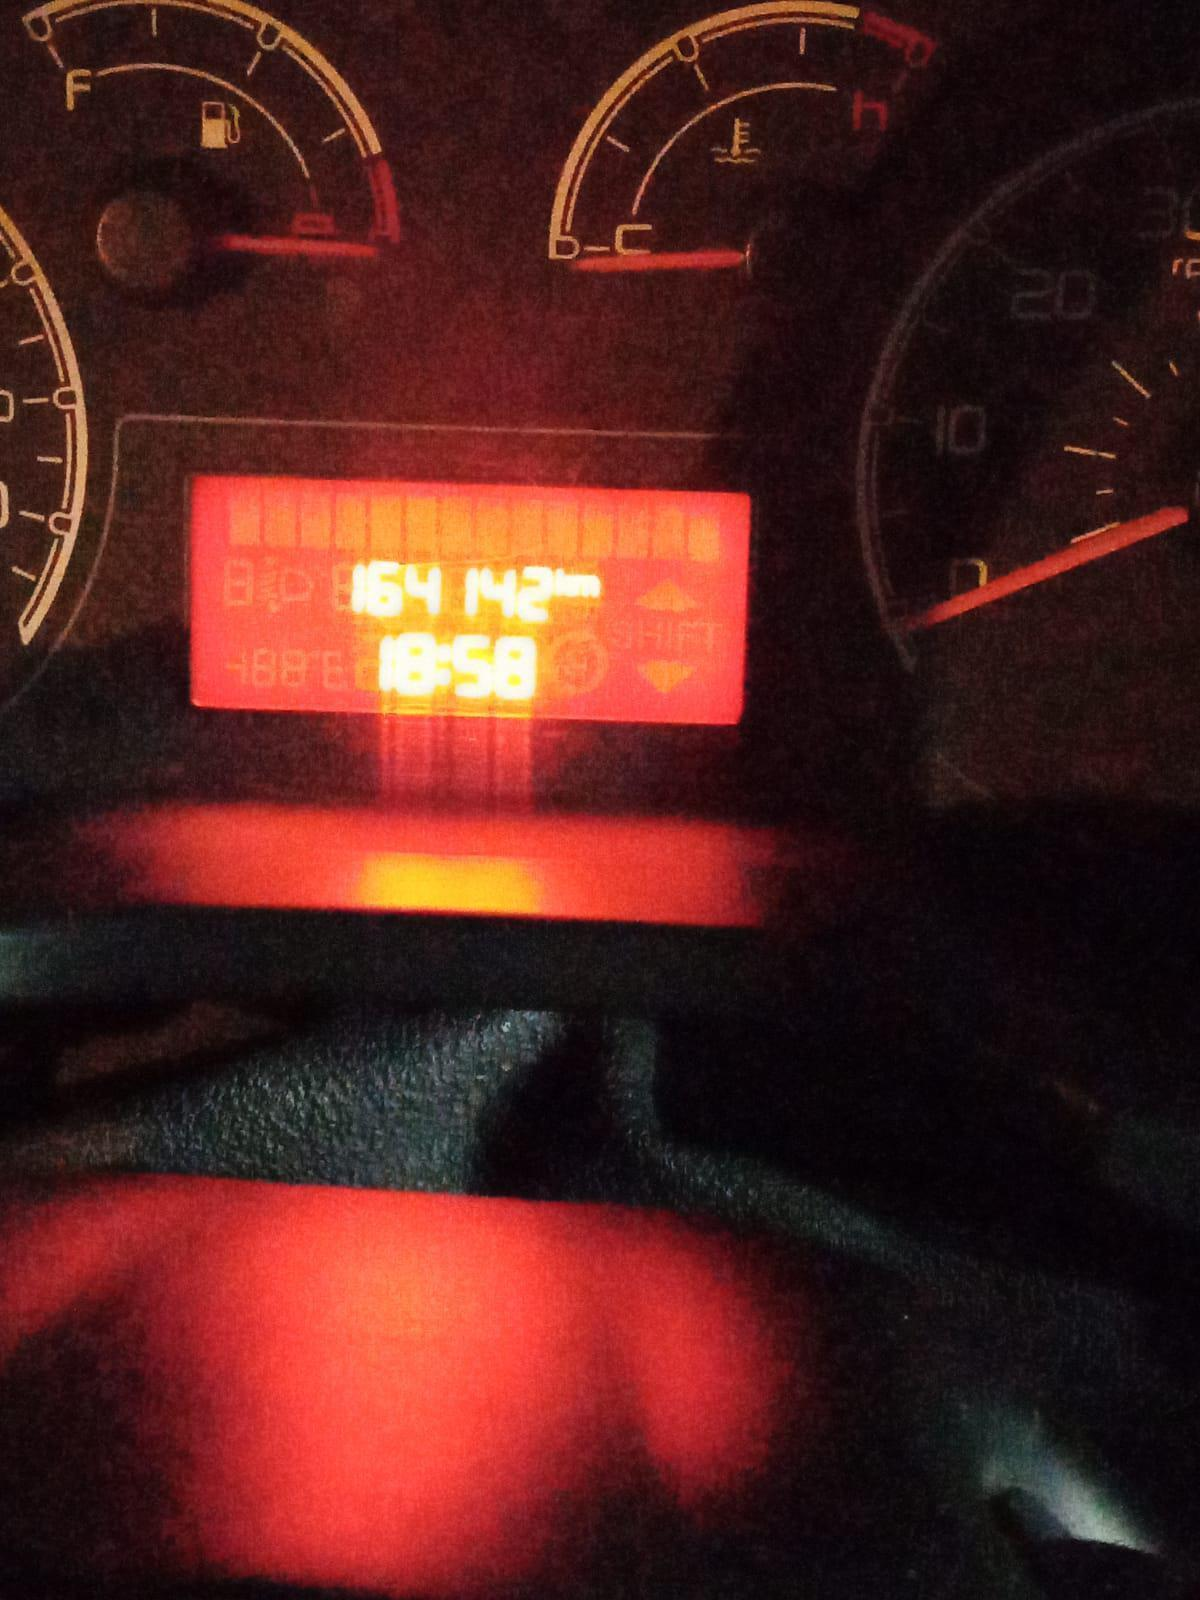1: (377, 630, 392, 697), (463, 562, 479, 622), (350, 558, 366, 624)
2: (516, 563, 555, 625)
4: (405, 561, 442, 619), (479, 564, 516, 619)
5: (453, 629, 492, 700)
6: (366, 557, 403, 621)
8: (393, 627, 435, 699), (493, 632, 534, 700)
X: (575, 569, 604, 602), (435, 641, 453, 693), (556, 563, 574, 598)
odometer: (188, 472, 754, 728)
